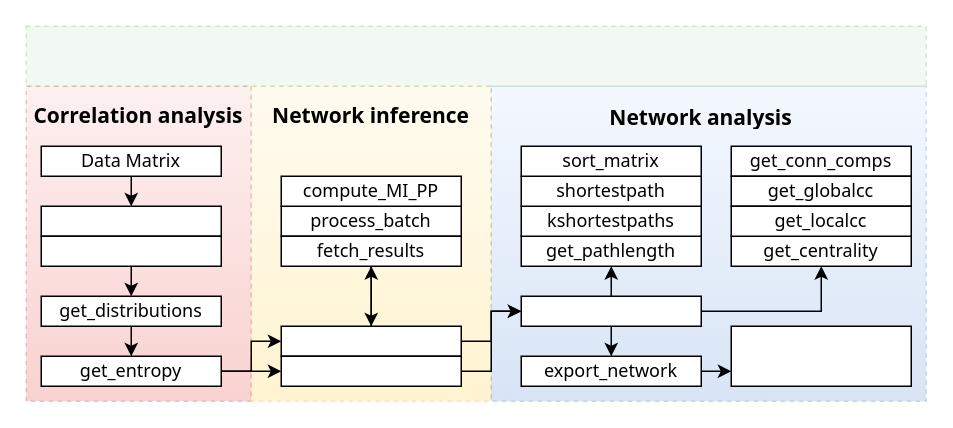
Some shapes in this 953 by 428 pixel diagram are drawn without their labels. The box of each missing label's shape, as (x1, y1, x2, y2) in pixels:
compute_MI: (280, 325, 461, 356)
compute_MI_batch: (280, 355, 461, 386)
Network visualization software (Gephi): (730, 325, 911, 386)
normalize_GEM: (40, 205, 221, 236)
shuffle_GEM: (40, 235, 221, 266)
sparsify_network: (520, 295, 701, 326)
TITAN: Toolbox for Information Theoretic Analysis of Networks: (25, 25, 926, 86)
